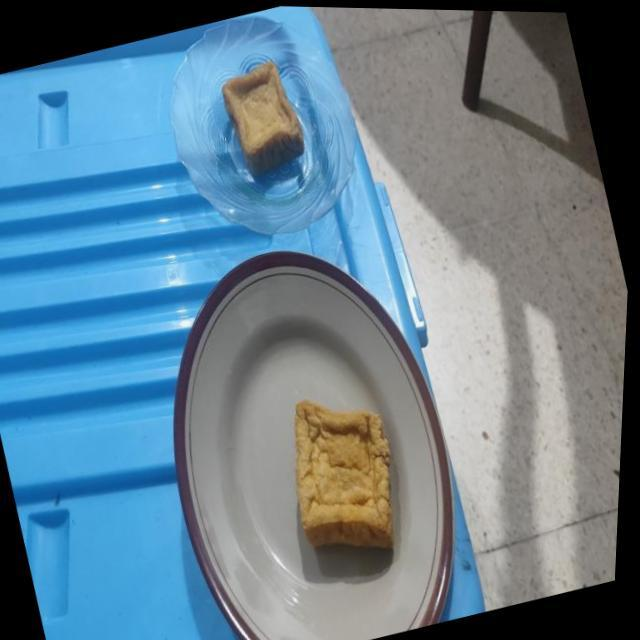tahu_goreng: (294, 399, 393, 546), (221, 59, 304, 175)
